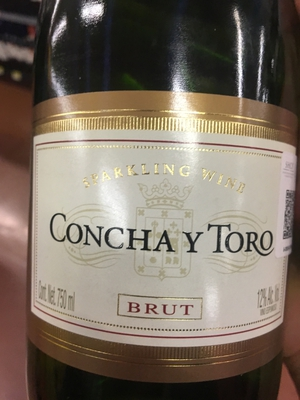brut: (32, 21, 300, 394)
